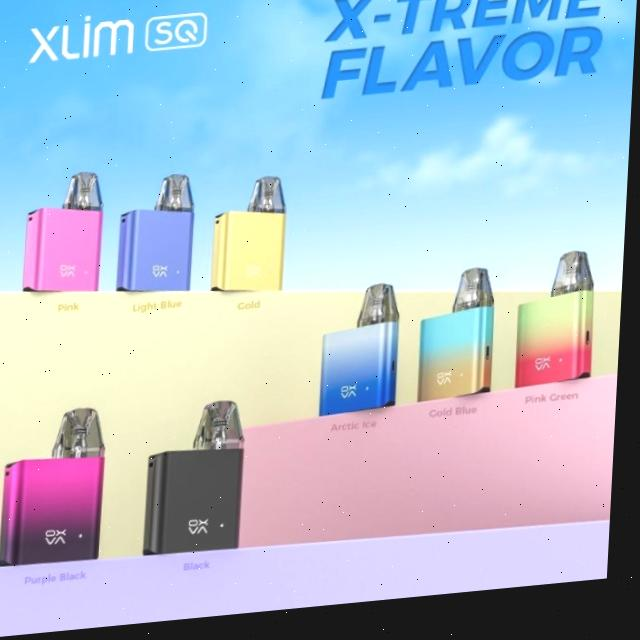vape: (3, 407, 115, 569), (148, 402, 254, 562), (517, 260, 603, 401), (419, 276, 502, 412), (322, 289, 406, 423), (25, 171, 110, 300), (118, 174, 202, 302), (212, 178, 293, 302)
